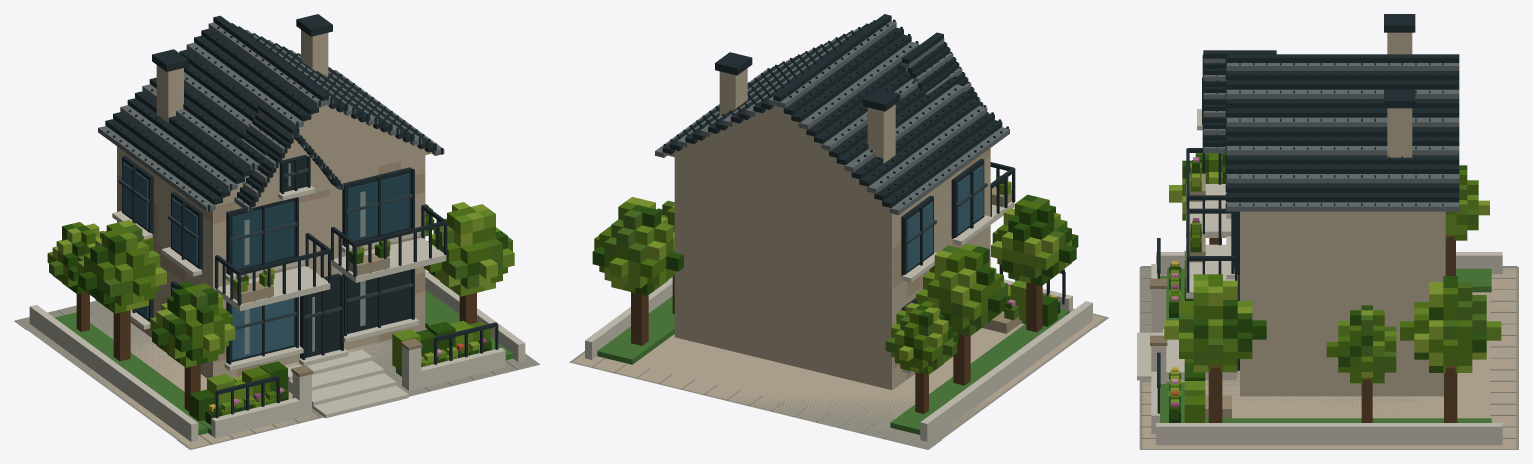
The model's file is SM_Mapa_020.fbx.
3 renders of one model, left to right at view 1: azimuth 30°, elevation 25°; view 2: azimuth 150°, elevation 25°; view 3: azimuth 270°, elevation 25°, orthographic. The views are drawn at different scales.
Parts seen in each view (by area): view 1: SM_Mapa_020; view 2: SM_Mapa_020; view 3: SM_Mapa_020.
Part boxes in pixels (<box>): SM_Mapa_020: <box>14,14,540,449</box>; SM_Mapa_020: <box>569,14,1108,449</box>; SM_Mapa_020: <box>1137,14,1518,449</box>.
Size of the model in its own units: 8 by 6.92 by 6.04.
